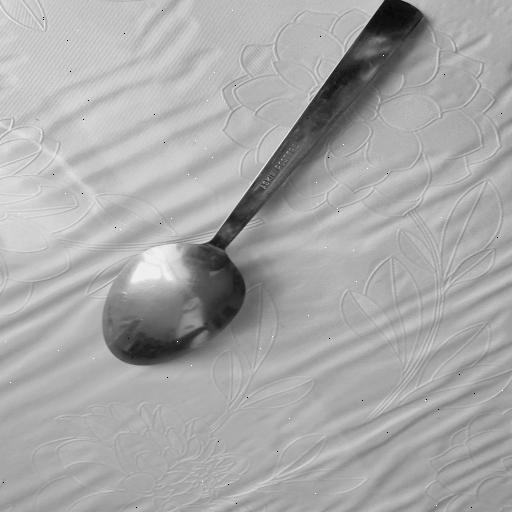spoon: (97, 0, 416, 368)
